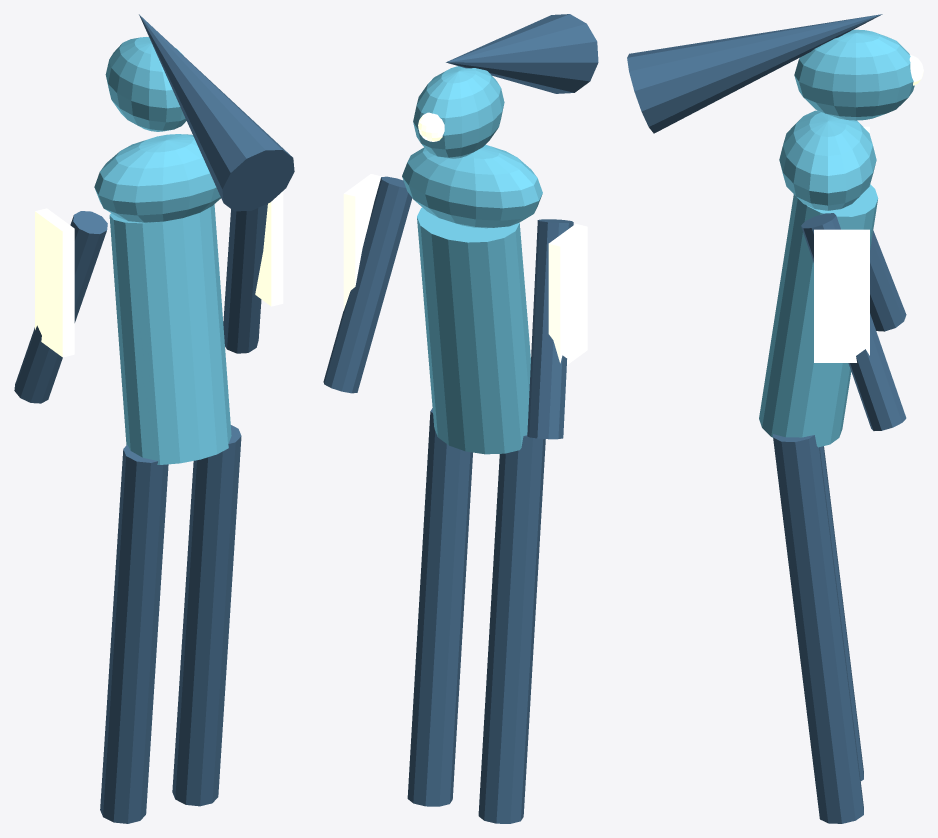
Rendered from voltrix.glb.
The picture shows the model from 3 angles, left to right: view 1: azimuth 30°, elevation 25°; view 2: azimuth 150°, elevation 25°; view 3: azimuth 270°, elevation 25°; orthographic projection. The views are drawn at different scales.
Parts seen in each view (by area): view 1: voltrix; view 2: voltrix; view 3: voltrix.
Boxes of the visible parts, x1=… form: voltrix: x1=14, y1=14, x2=294, y2=823; voltrix: x1=323, y1=14, x2=598, y2=823; voltrix: x1=627, y1=14, x2=923, y2=823.
Bounding box in the file's own units: 0.5965 × 1.85 × 0.6342.
